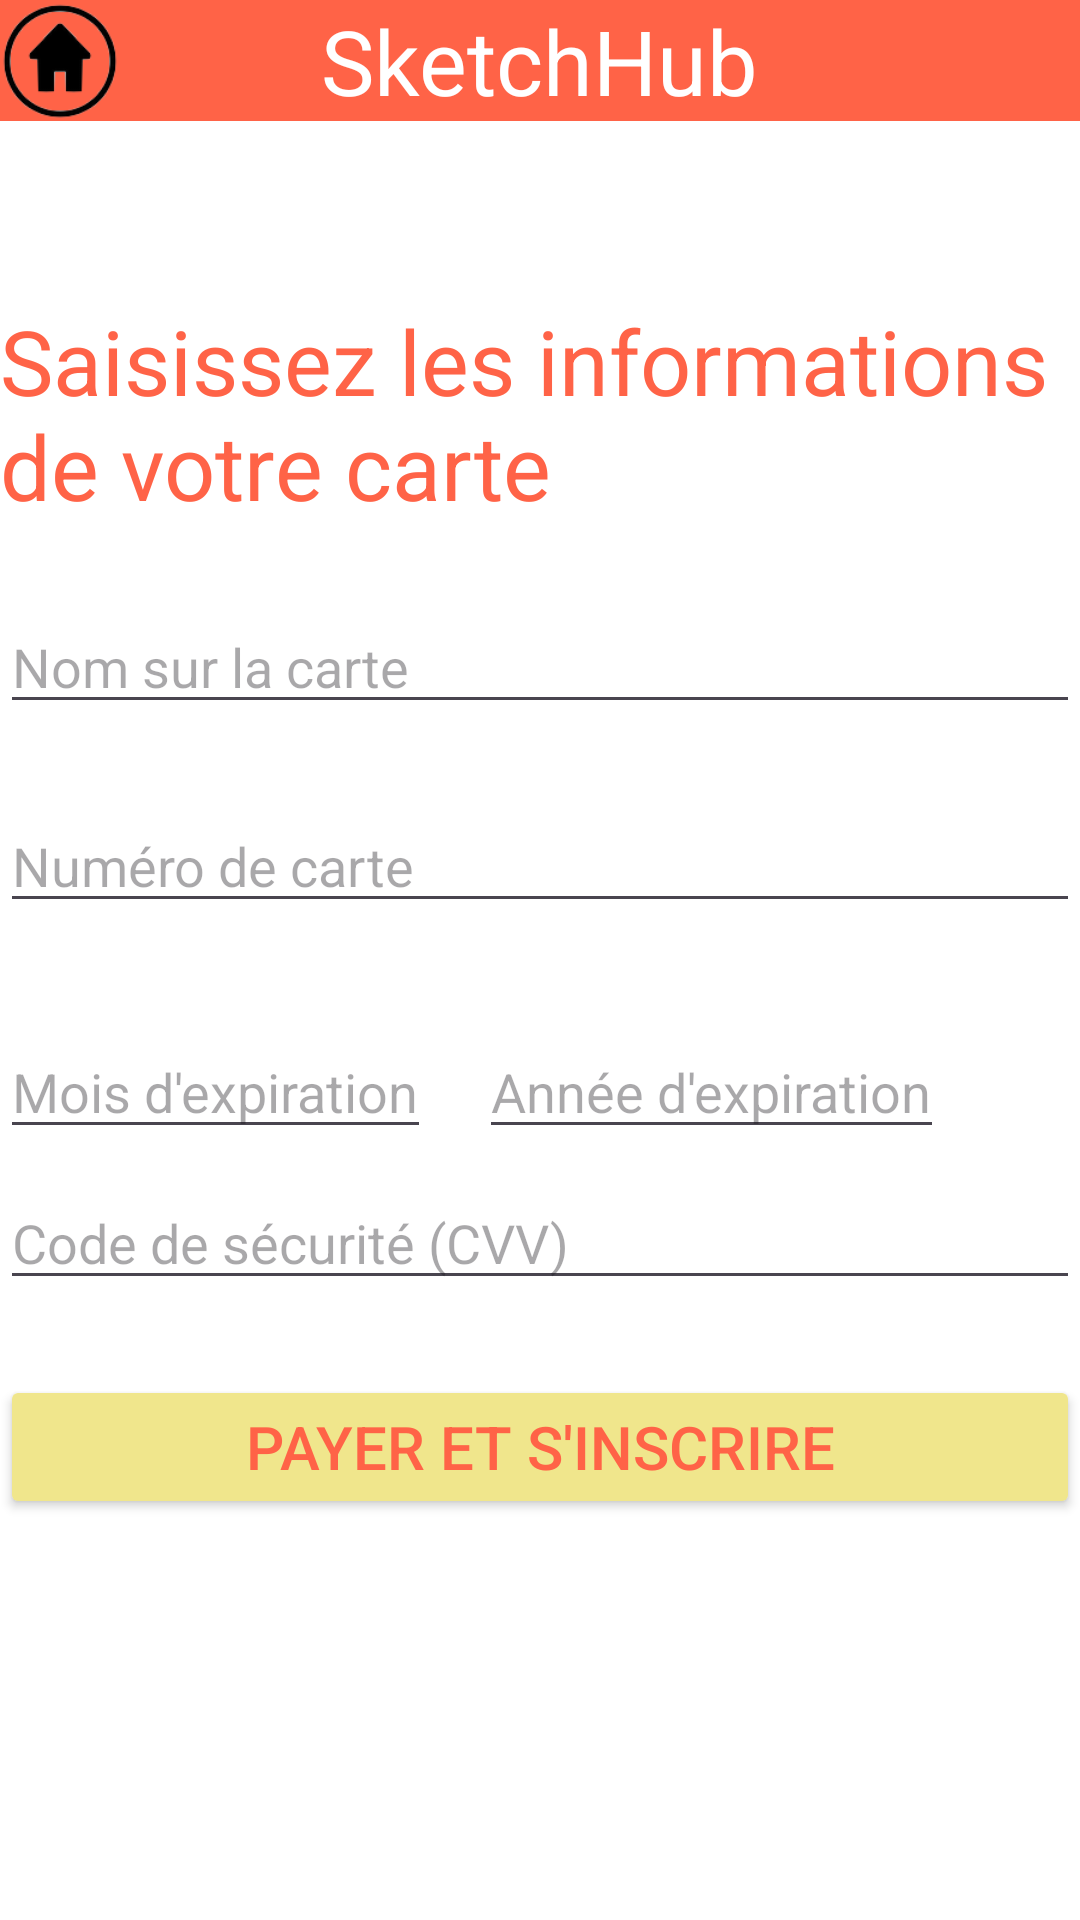

Icon click points for this 1080*1920 phone screenshot, format (x=x, y=y):
home: (x=60, y=61)
